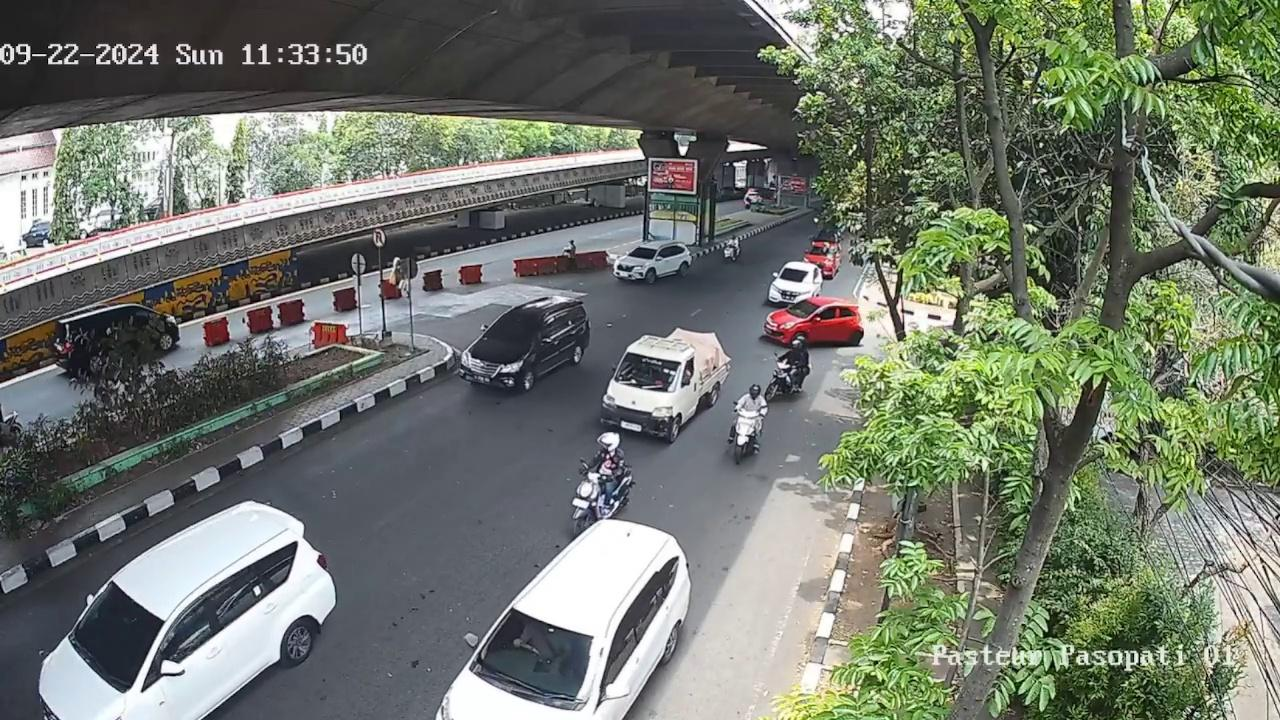pakai: (524, 621, 569, 670)
windshield: (475, 607, 605, 696), (72, 579, 170, 687), (615, 353, 681, 394), (482, 315, 542, 348), (779, 266, 814, 283), (787, 300, 817, 318), (628, 247, 656, 258)
